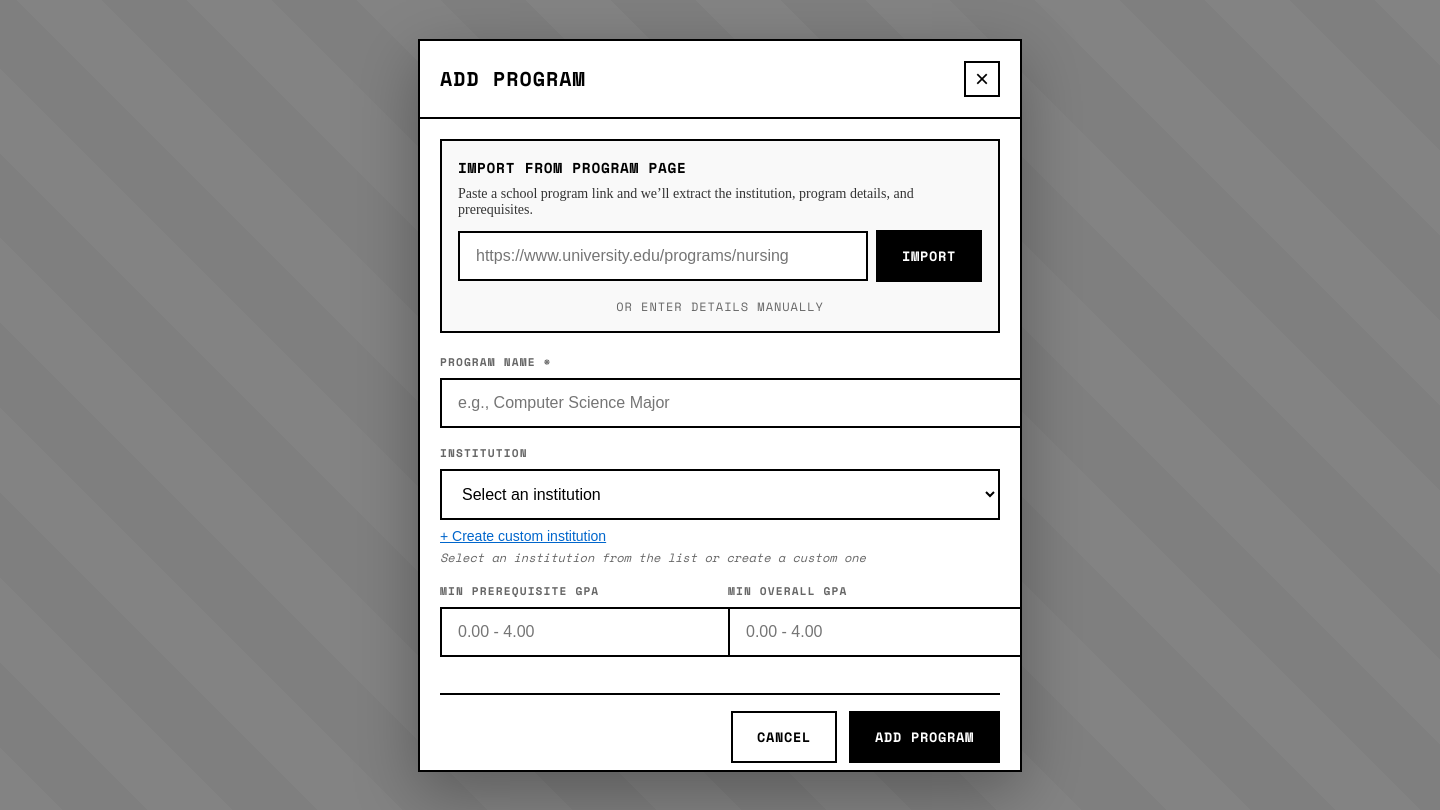
Test: ProgramModal › shows import validation error for empty url
Click the button "Import" at (929, 256), box [876,230,982,282]
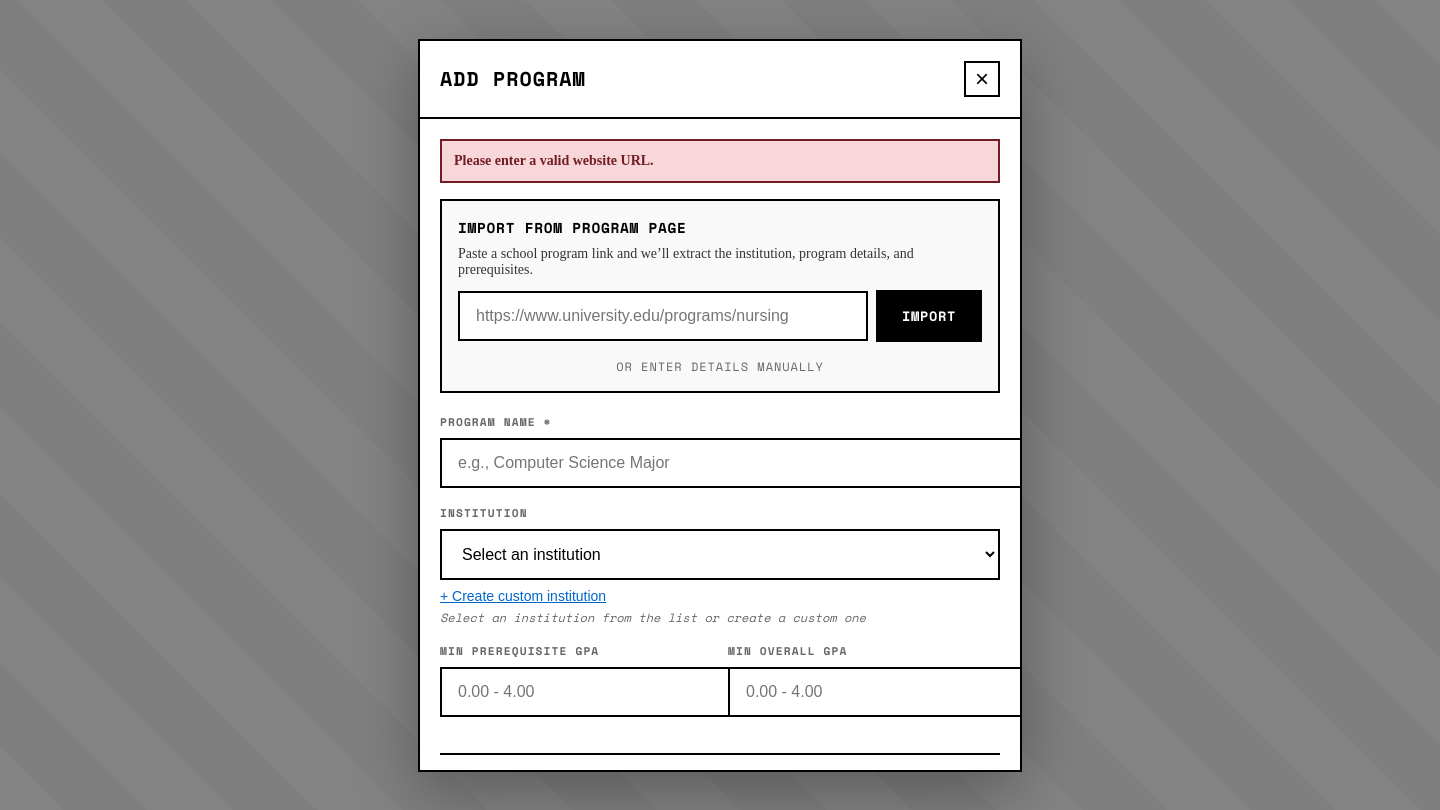
Expected: the text "Please enter a valid website URL." is shown, [440,138,1000,182]
